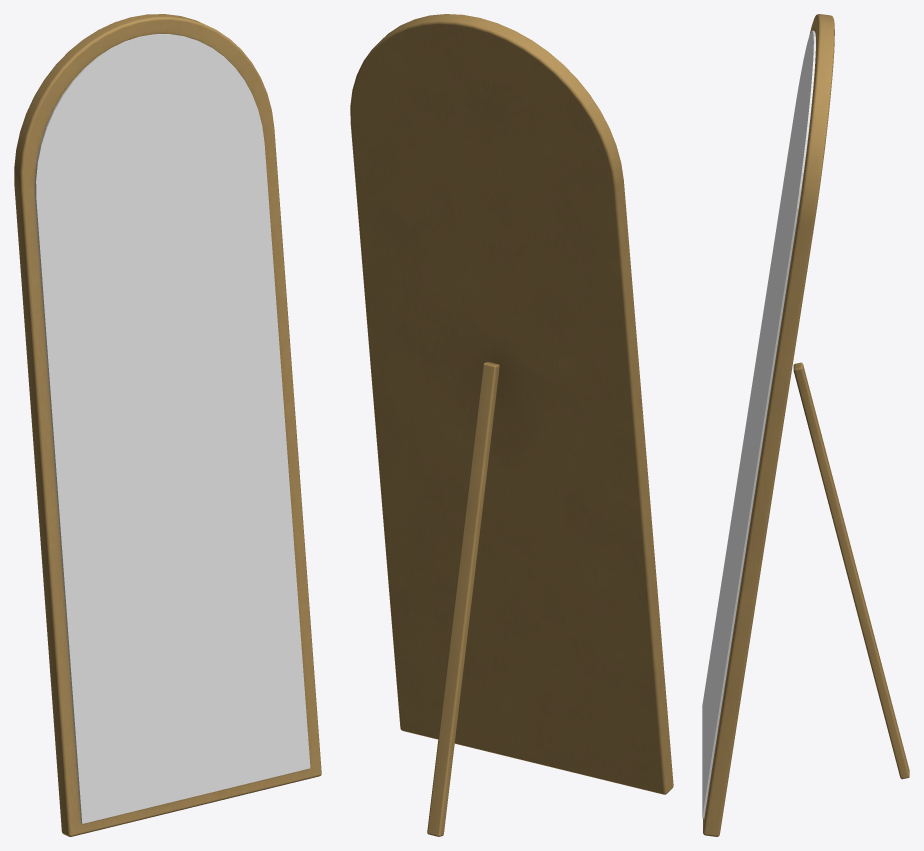
Rendered from arch-brass.glb.
3 views of the same model, side by side, from view 1: azimuth 30°, elevation 25°; view 2: azimuth 150°, elevation 25°; view 3: azimuth 270°, elevation 25° (orthographic). The views are drawn at different scales.
Visible parts, largest first — view 1: mirror, brass; view 2: brass; view 3: brass, mirror.
Boxes of the visible parts, x1=… form: mirror: x1=35, y1=34, x2=310, y2=823; brass: x1=14, y1=14, x2=321, y2=836; brass: x1=350, y1=14, x2=673, y2=836; brass: x1=703, y1=14, x2=909, y2=836; mirror: x1=702, y1=30, x2=815, y2=818.
Bounding box in the file's own units: 0.6 × 1.69 × 0.4242.
2 materials, 1 textured.
